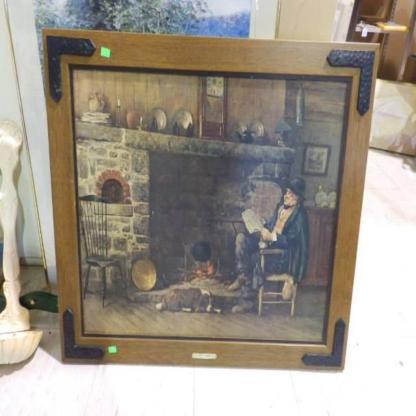Picture-frame: (45, 27, 371, 372)
